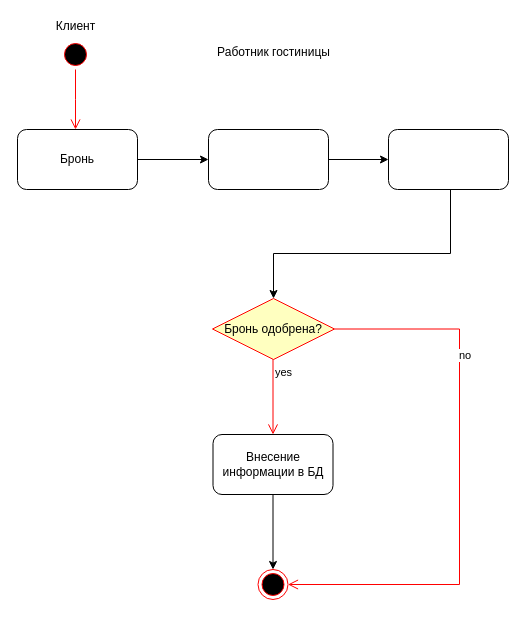
The diagram is 526 pixels wide and 617 high, and some of its shapes have lost their labels. The centre of each missing label's shape, as x and y in pixels:
"Оформление брони" goes at (268,159).
"Проверка БД" goes at (448,159).
